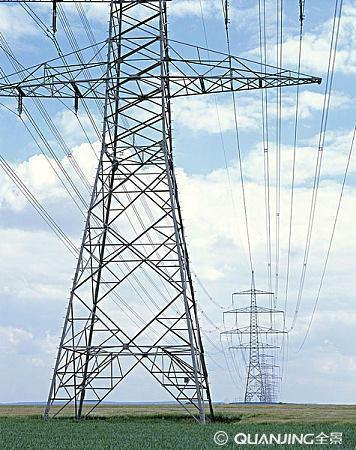power_tower: (0, 1, 278, 417), (218, 264, 287, 418)
